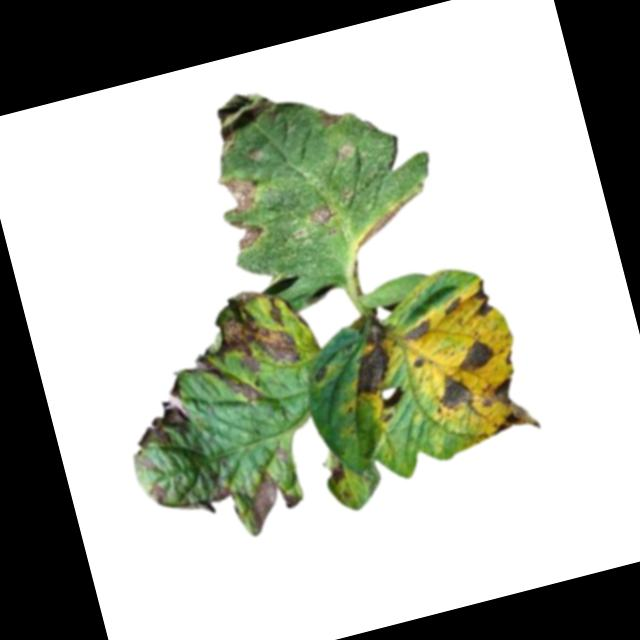Early_blight: (168, 279, 313, 415), (206, 78, 294, 155), (337, 306, 405, 399), (470, 369, 544, 444), (122, 375, 194, 451), (345, 192, 425, 249), (241, 464, 306, 533), (216, 169, 261, 215), (432, 369, 475, 415), (453, 333, 499, 374), (226, 210, 266, 252), (467, 276, 496, 317), (398, 315, 438, 344), (307, 199, 338, 227), (316, 103, 345, 128), (208, 480, 236, 505), (145, 478, 169, 505), (439, 292, 465, 315), (326, 462, 348, 486), (310, 361, 332, 382), (412, 354, 423, 367)
